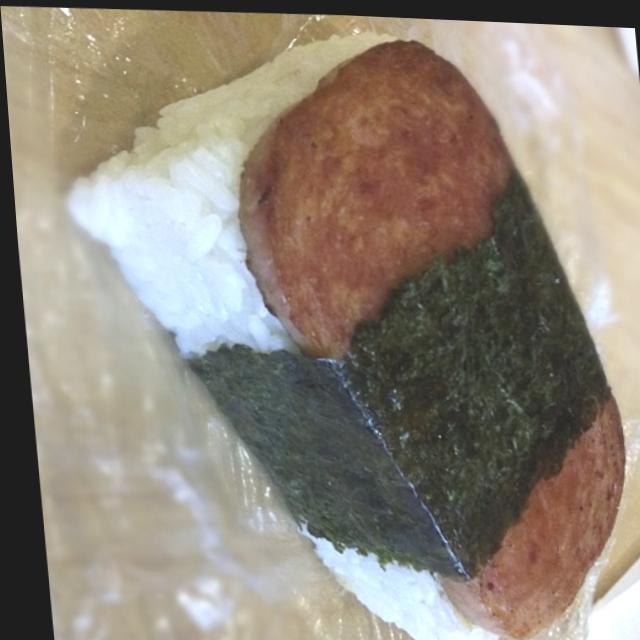寿司卷物: (33, 22, 640, 640)
